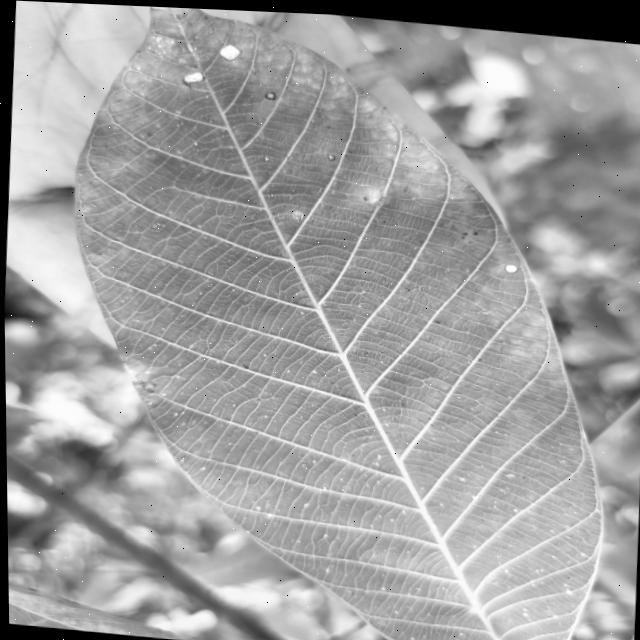Colletotrichum: (218, 42, 243, 60), (183, 69, 206, 85), (504, 258, 518, 270), (265, 88, 278, 98), (327, 152, 335, 159)
Leaf-Blight: (121, 361, 142, 383)
